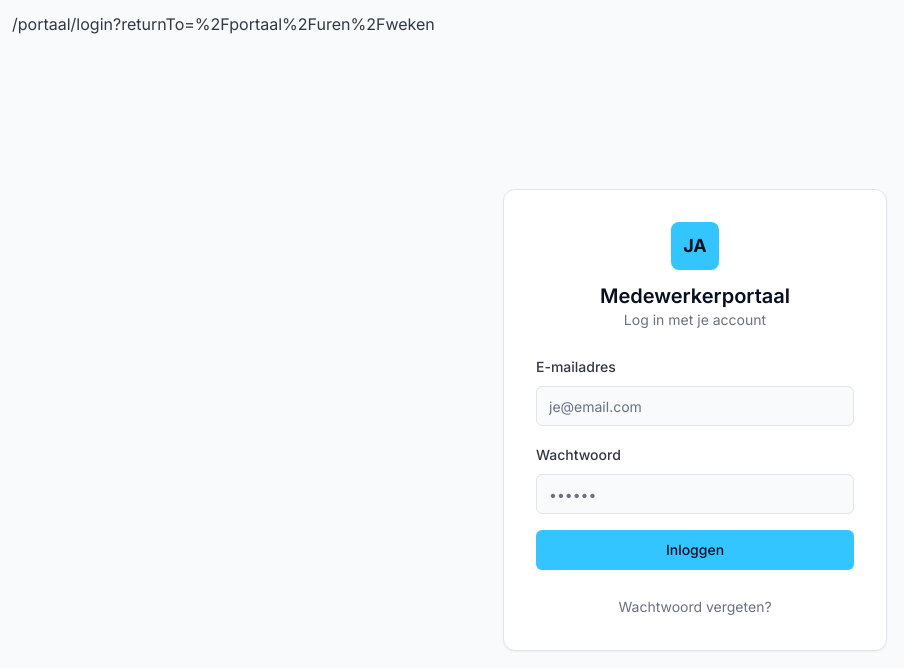
it: portal login return navigation › keeps the non-employee destination unchanged
This screenshot has width=904, height=668.
In the field labelled "E-mailadres": x=695, y=406 [536,386,854,426], type "medewerker@example.test"
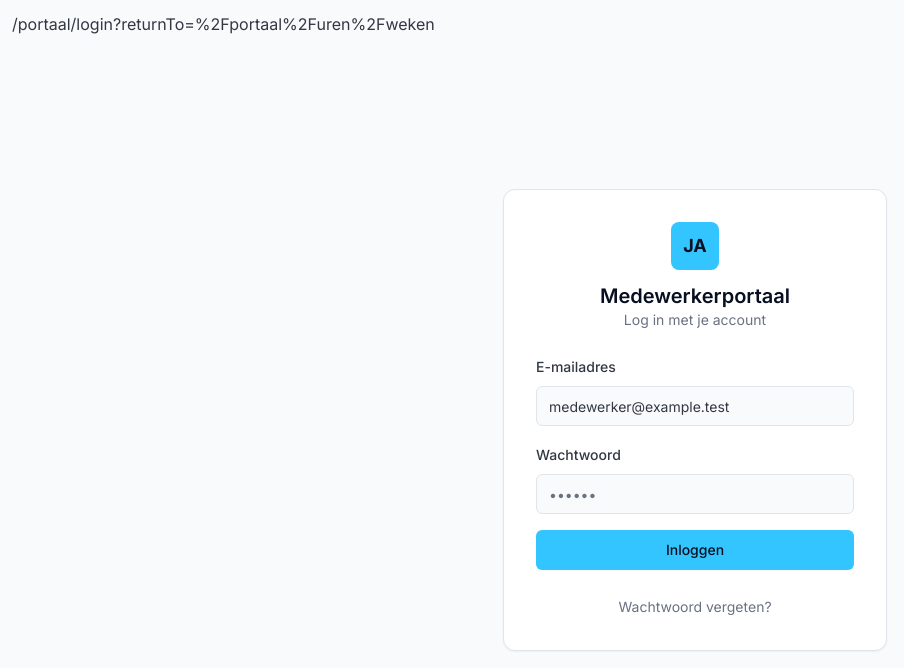
In the password field labelled "Wachtwoord": x=695, y=494 [536,474,854,514], type "test-password"
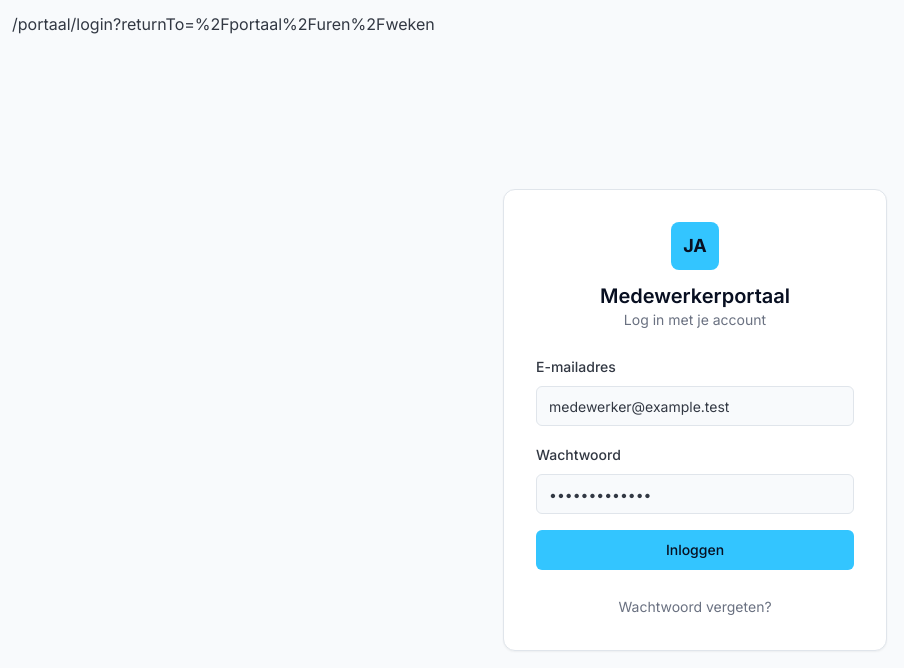
Click the button "Inloggen": x=695, y=550 [536,530,854,570]
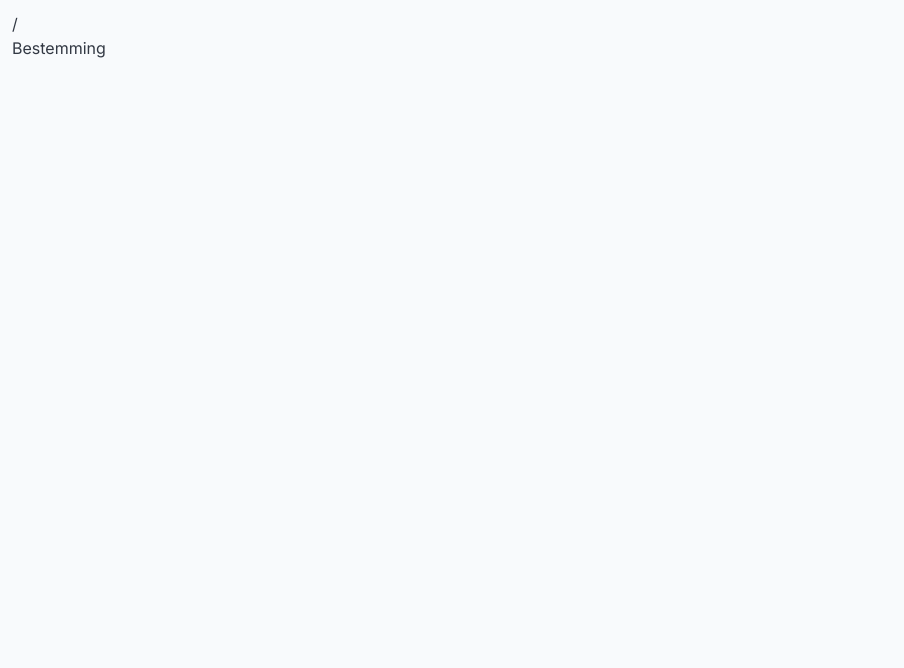
Check: the text with test id "location" reads "/", box [12,14,18,34]
Check: the text "Bestemming" is shown, box [12,38,106,58]
